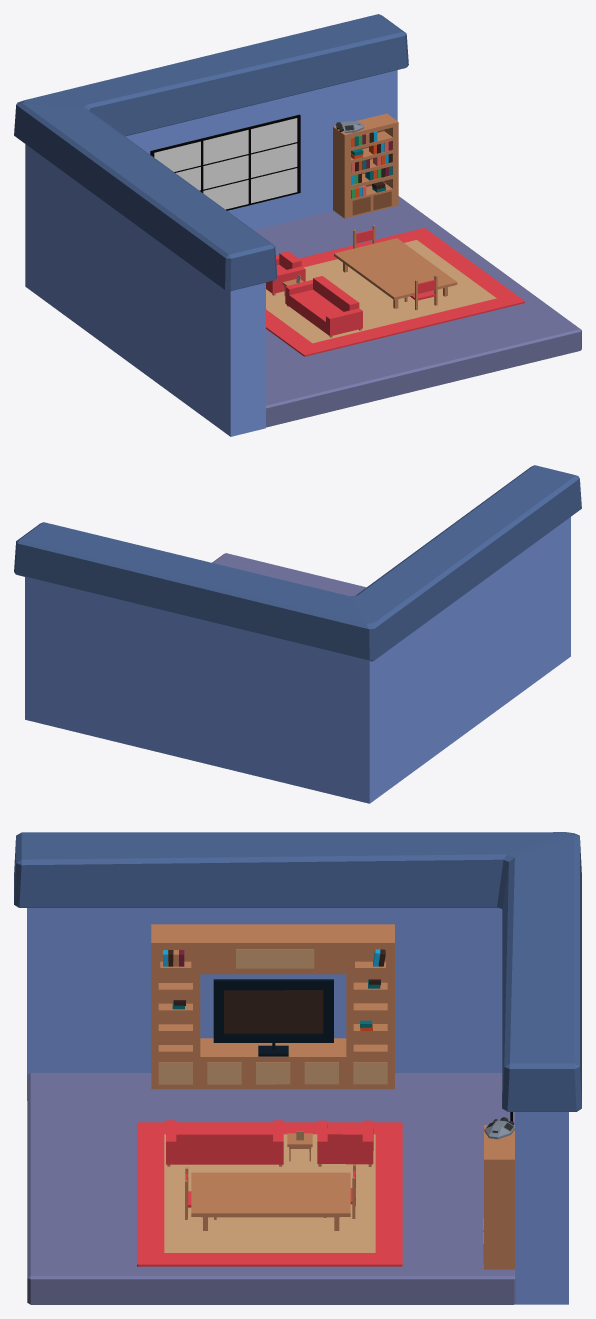
The picture shows the model from 3 angles, top to bottom: view 1: azimuth 30°, elevation 25°; view 2: azimuth 150°, elevation 25°; view 3: azimuth 270°, elevation 25°; orthographic projection. The views are drawn at different scales.
Visible parts, largest first — view 1: Room, Floor, rectangle carpet, Plane.005, Cube.015, Cube.102, arm chair.001, arm chair; view 2: Room, Floor; view 3: Room, Floor, Cube.103, rectangle carpet, Cube.105, Cube.102, arm chair.001, Cube.015, arm chair.
Boxes of the visible parts, <box> form: Room: <box>14,14,408,436</box>; Floor: <box>254,196,581,427</box>; rectangle carpet: <box>266,228,524,356</box>; Plane.005: <box>150,114,300,210</box>; Cube.015: <box>333,113,398,218</box>; Cube.102: <box>334,238,457,299</box>; arm chair.001: <box>285,276,362,336</box>; arm chair: <box>266,251,305,293</box>; Room: <box>14,465,581,803</box>; Floor: <box>212,553,366,596</box>; Room: <box>14,832,581,1304</box>; Floor: <box>27,1073,515,1304</box>; Cube.103: <box>151,924,394,1089</box>; rectangle carpet: <box>137,1122,402,1266</box>; Cube.105: <box>213,979,333,1042</box>; Cube.102: <box>191,1172,350,1217</box>; arm chair.001: <box>166,1120,283,1164</box>; Cube.015: <box>483,1125,514,1269</box>; arm chair: <box>317,1120,373,1164</box>.
Size of the model in its own units: 19.36 by 9.41 by 19.57.
